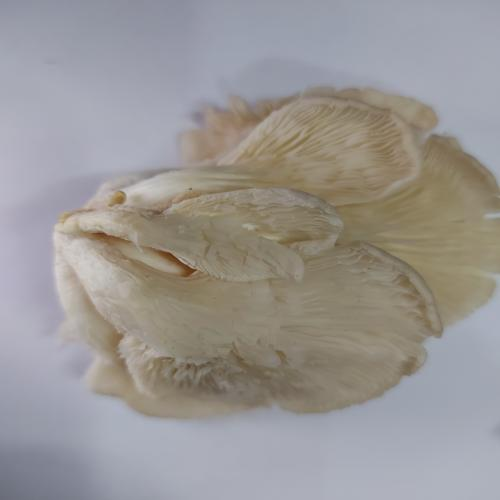Oyster Mushroom: (52, 85, 499, 418)
